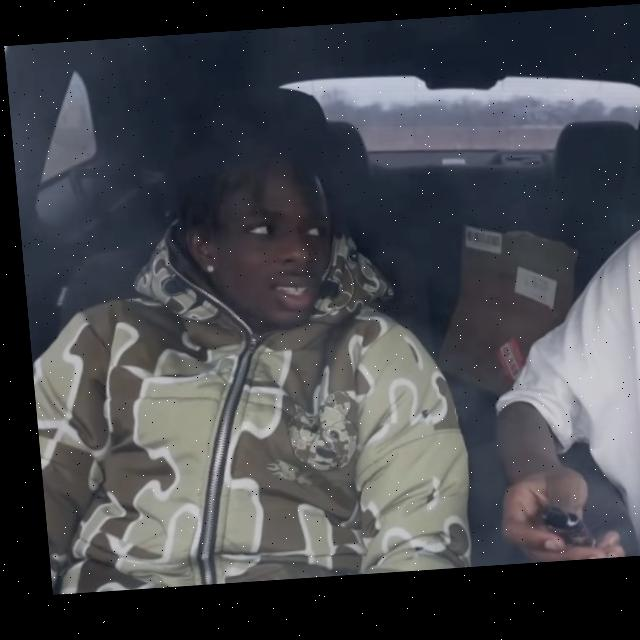vape: (527, 510, 588, 561)
